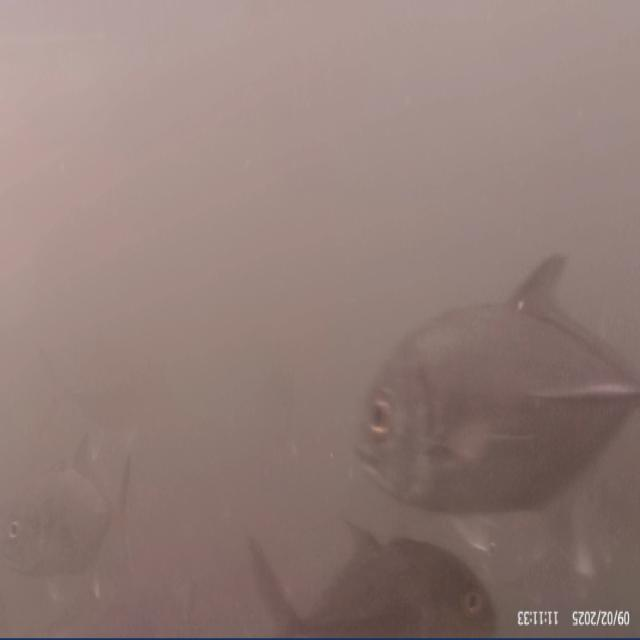ikan: (352, 248, 638, 520), (245, 518, 497, 636), (4, 425, 134, 603)
